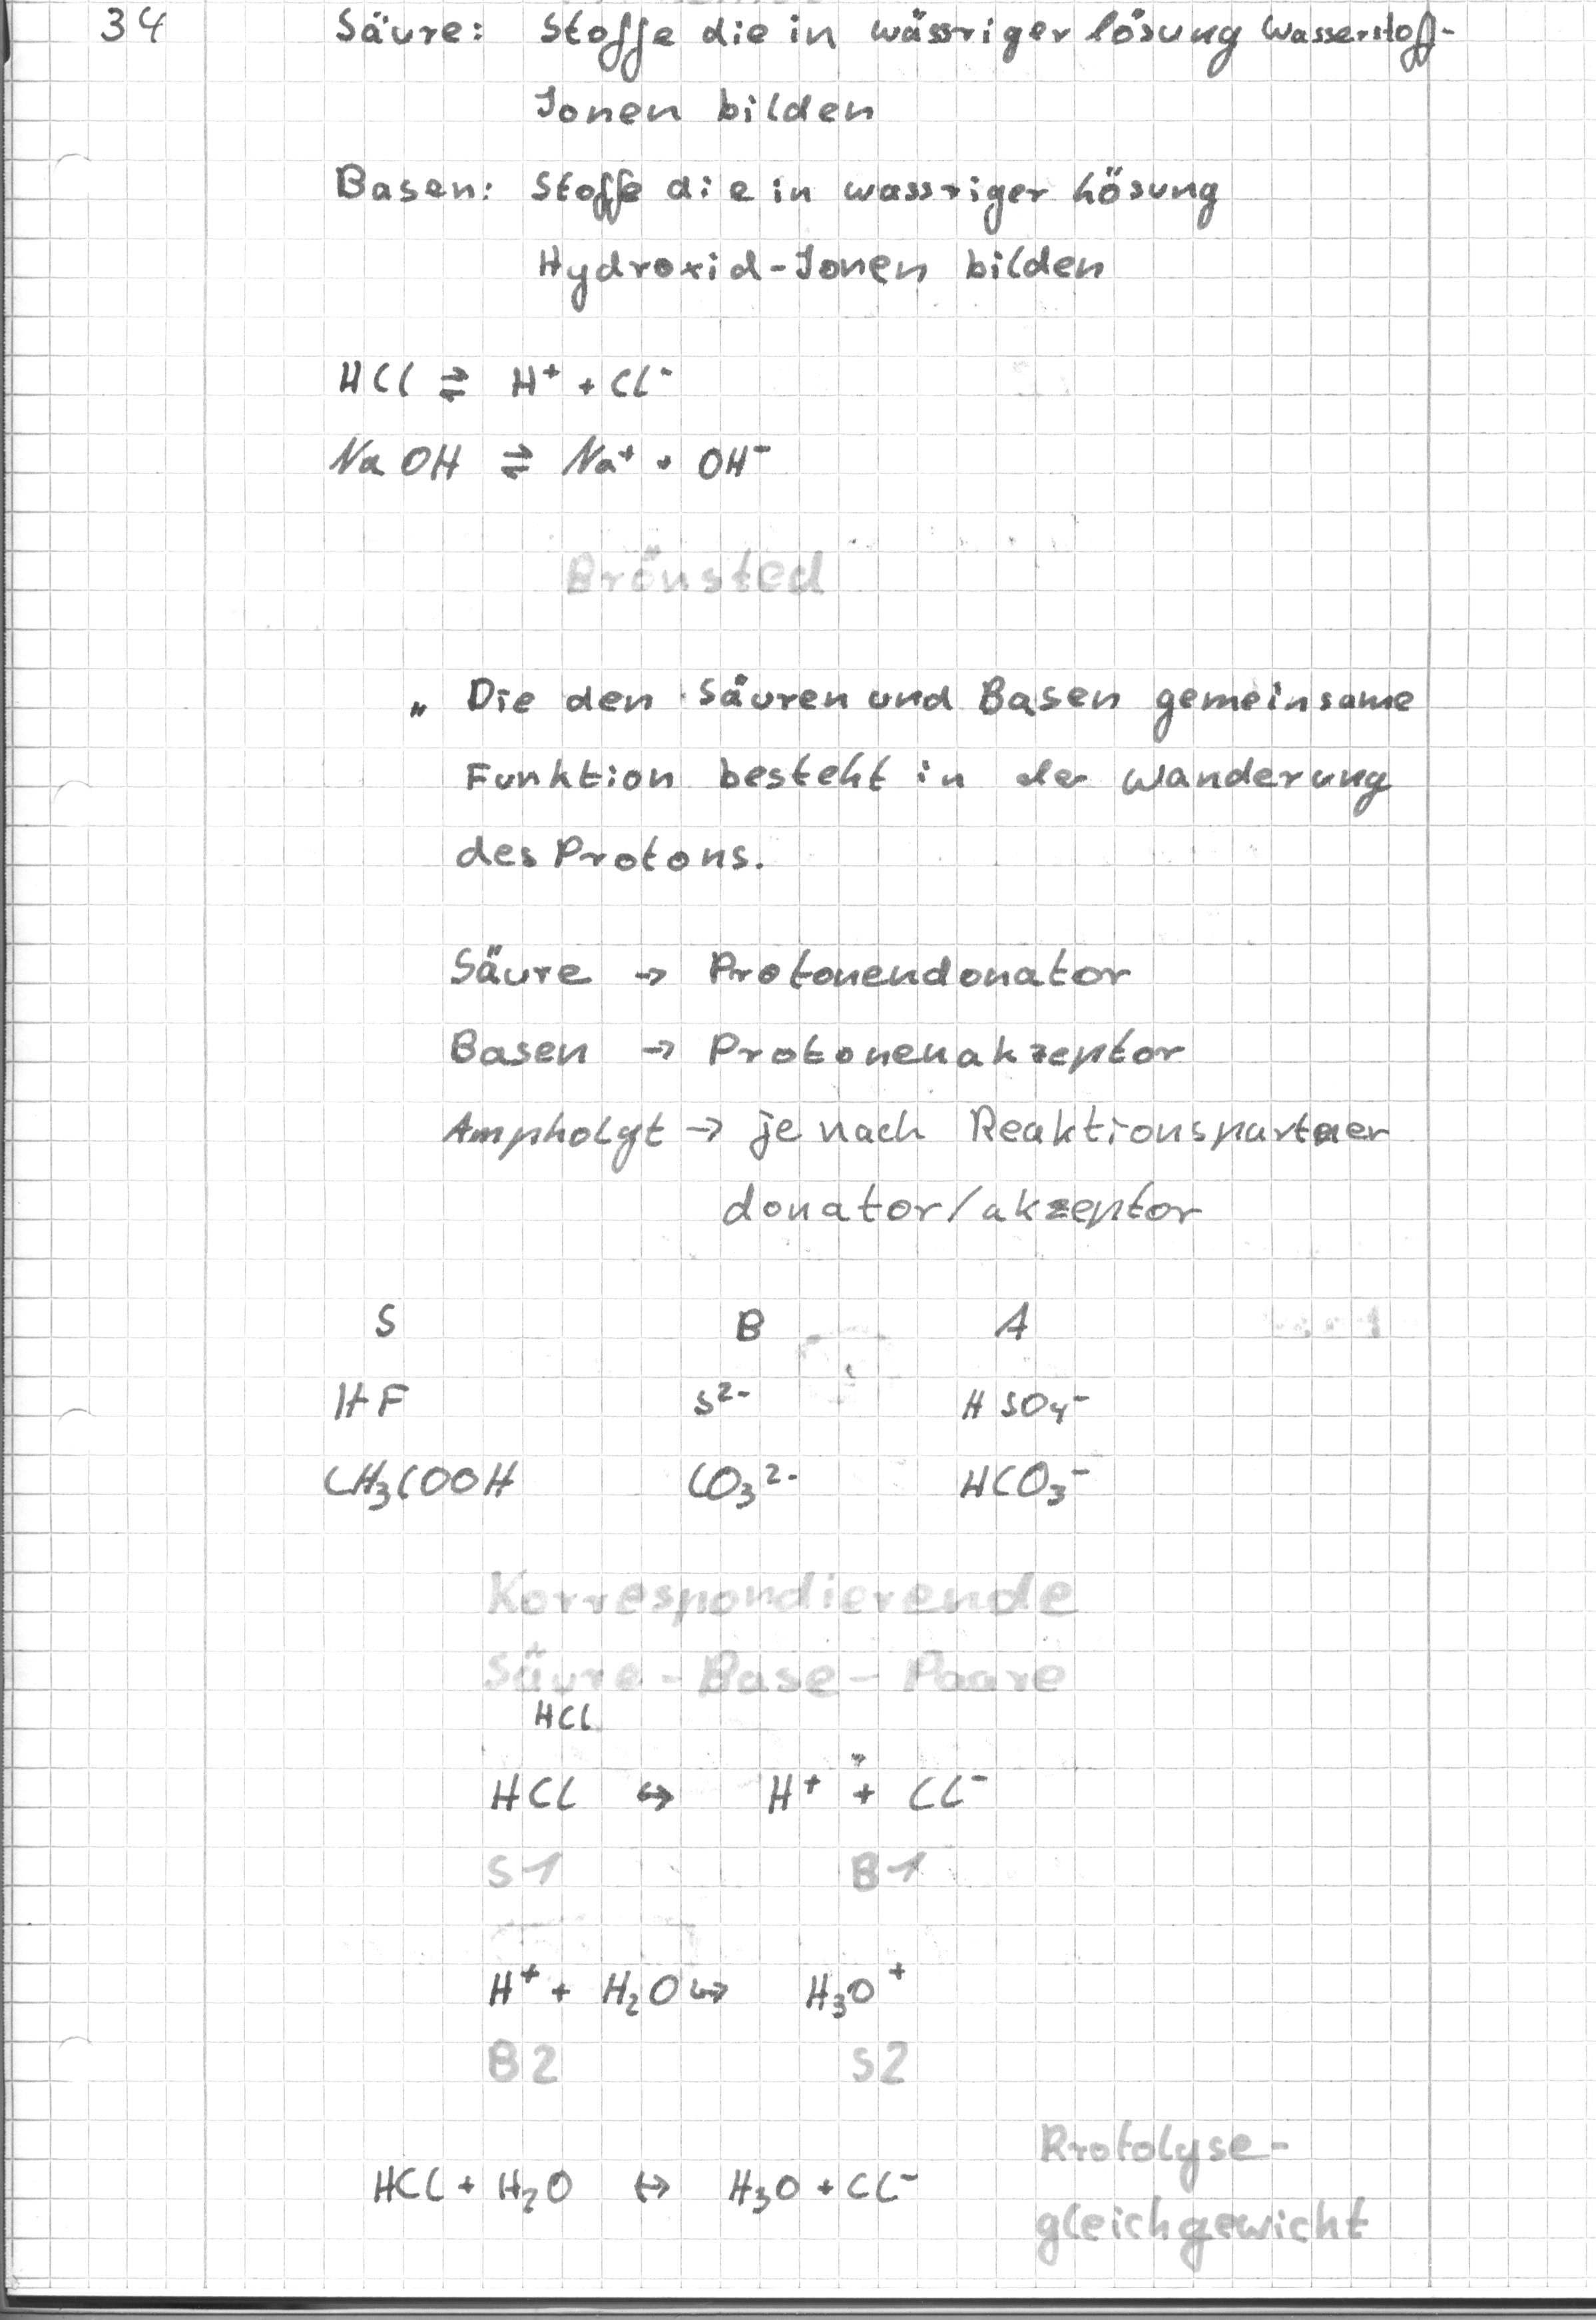word: (436, 938, 1406, 1243), (443, 664, 1419, 902), (528, 1, 1469, 139), (527, 153, 1233, 326), (312, 346, 788, 495), (368, 2143, 928, 2240), (308, 1297, 539, 1517), (469, 1750, 997, 1830), (475, 1953, 926, 2036), (945, 1293, 1103, 1524), (675, 1297, 814, 1529), (321, 141, 516, 220), (326, 1, 507, 64)
